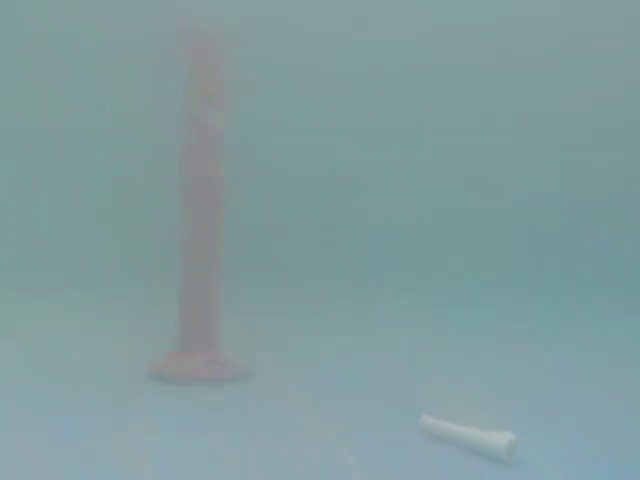flare: (140, 0, 266, 397)
